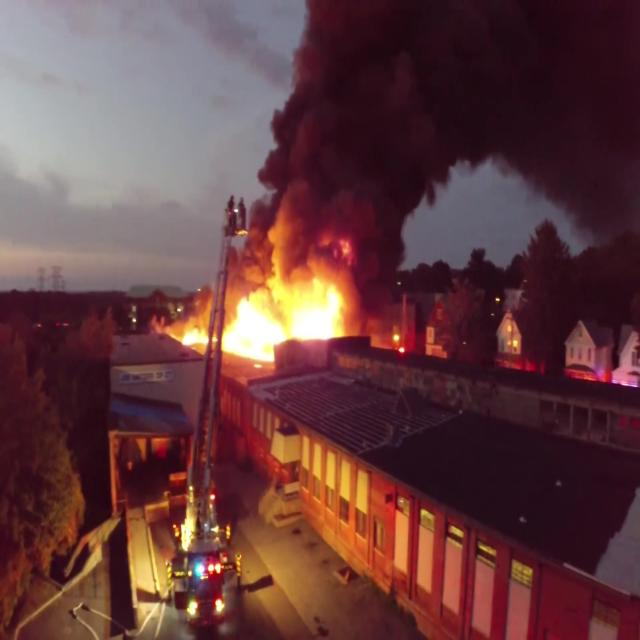Fire: (178, 278, 346, 360)
Smoke: (219, 0, 640, 294)
